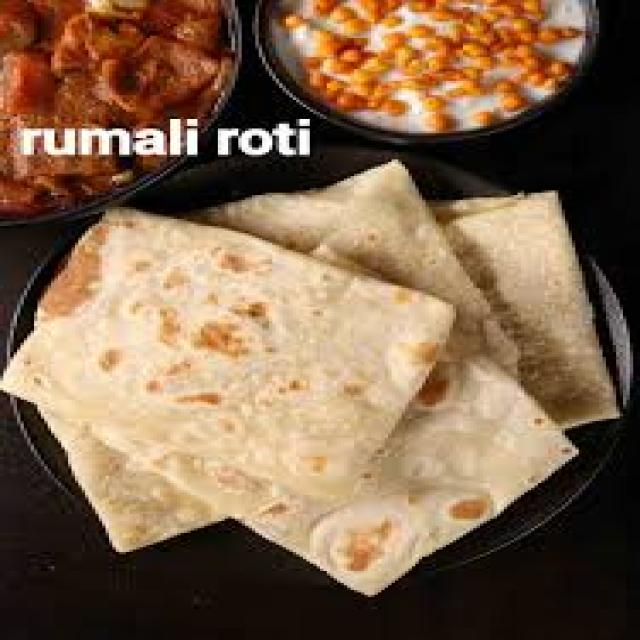ROTI: (0, 209, 449, 516), (259, 359, 575, 592), (194, 162, 514, 374)
